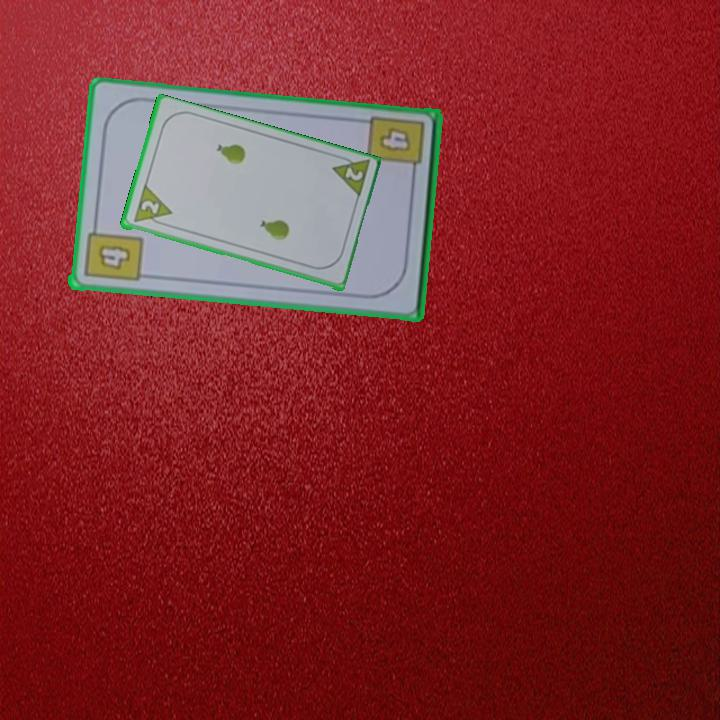2p: (328, 151, 372, 202), (137, 197, 162, 217)
4b: (80, 218, 145, 285), (374, 124, 414, 155)
